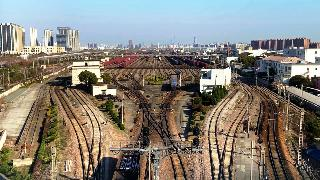train: (110, 147, 142, 180), (169, 74, 179, 92)
